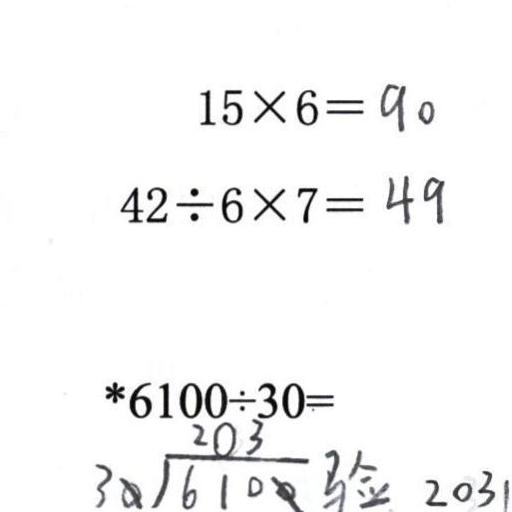ans: (381, 166, 446, 225), (375, 77, 434, 132)
